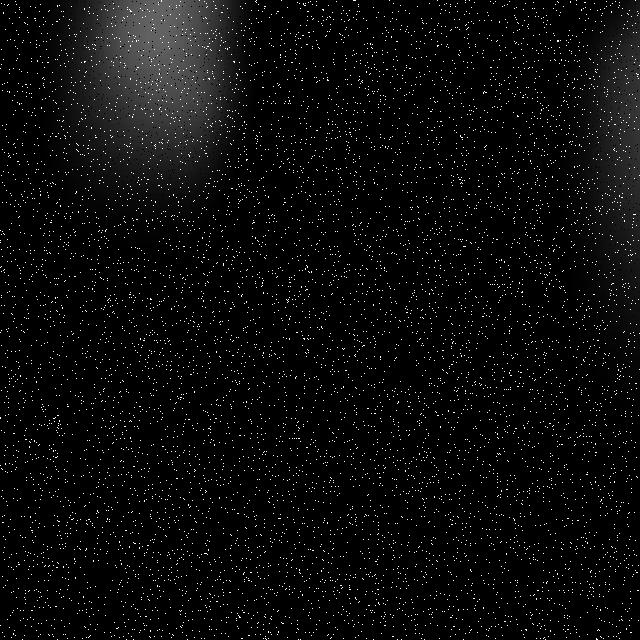person: (503, 1, 640, 610), (20, 1, 254, 289)
